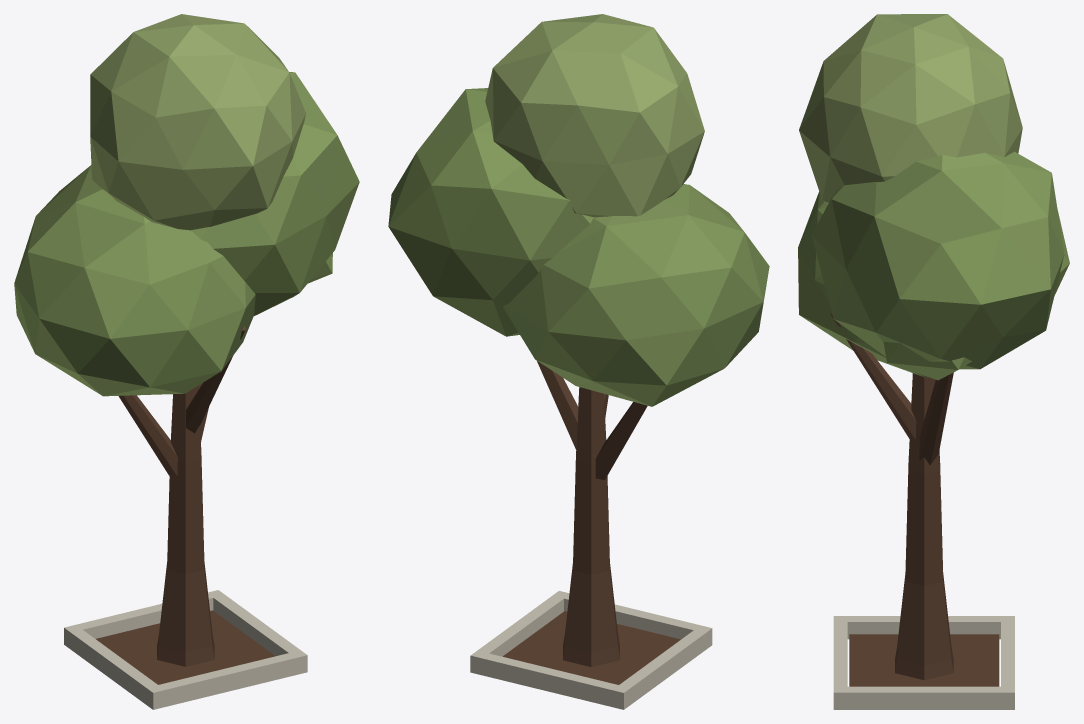
The model's file is SM_Tree_L2.glb.
3 renders of one model, left to right at view 1: azimuth 30°, elevation 25°; view 2: azimuth 150°, elevation 25°; view 3: azimuth 270°, elevation 25°, orthographic. The views are drawn at different scales.
Parts seen in each view (by area): view 1: SM_Tree; view 2: SM_Tree; view 3: SM_Tree.
Part boxes in pixels (x1=…): SM_Tree: x1=14, y1=14, x2=359, y2=709; SM_Tree: x1=388, y1=14, x2=769, y2=709; SM_Tree: x1=798, y1=14, x2=1069, y2=709.
Size of the model in its own units: 2.24 by 4.09 by 1.56.
